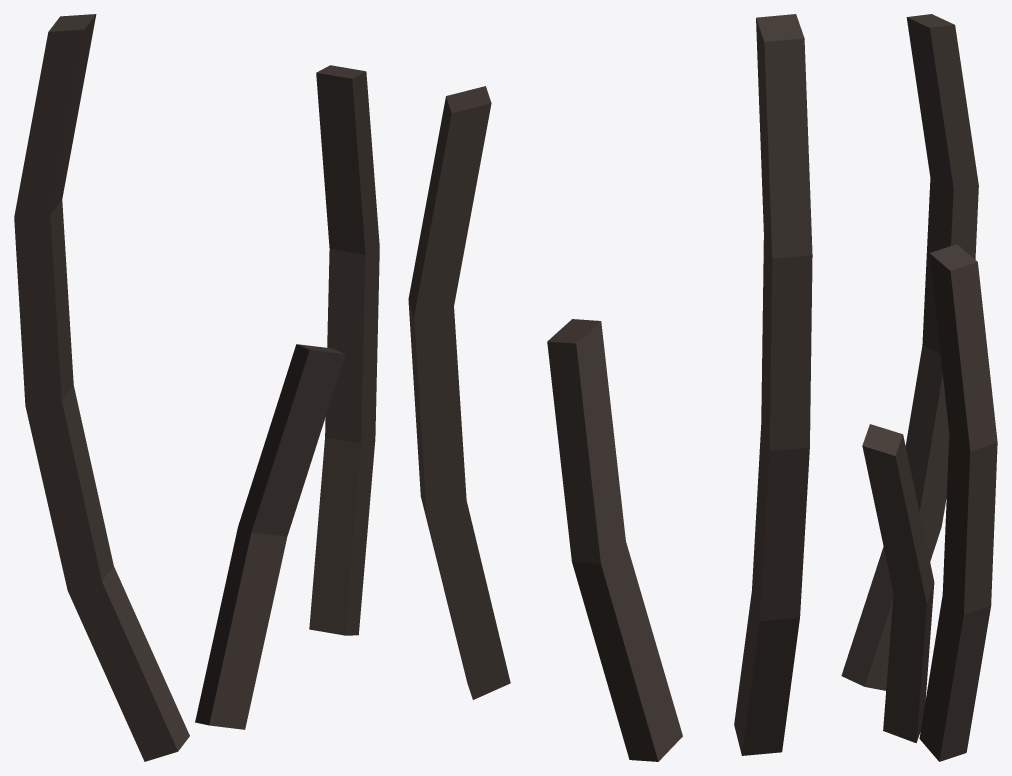
File: weeds.glb
3 renders of one model, left to right at view 1: azimuth 30°, elevation 25°; view 2: azimuth 150°, elevation 25°; view 3: azimuth 270°, elevation 25°, orthographic. The views are drawn at different scales.
Parts seen in each view (by area): view 1: Weeds; view 2: Weeds; view 3: Weeds.
Boxes of the visible parts, x1,y1,x2,y2 form: Weeds: (14, 14, 379, 761); Weeds: (408, 14, 812, 761); Weeds: (841, 14, 997, 761).
Bounding box in the file's own units: 1.11 × 2.1 × 0.4498.
Materials: 1 (1 with a texture image).
